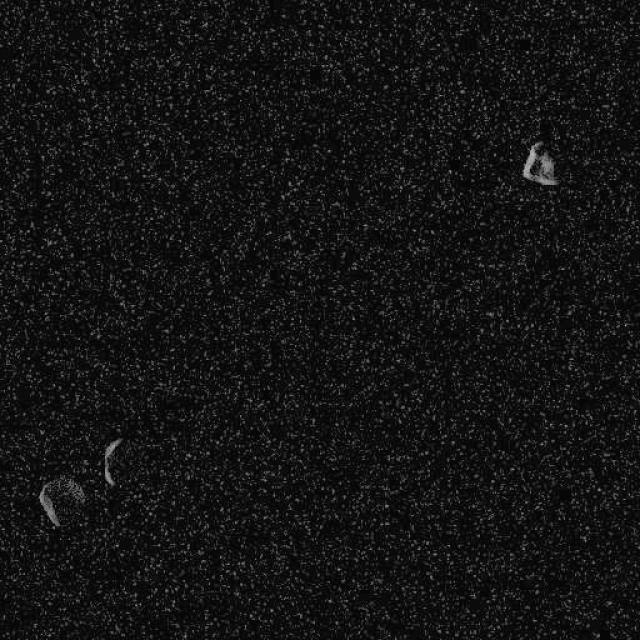D2: (38, 474, 86, 528), (520, 140, 560, 185), (102, 435, 126, 487)
